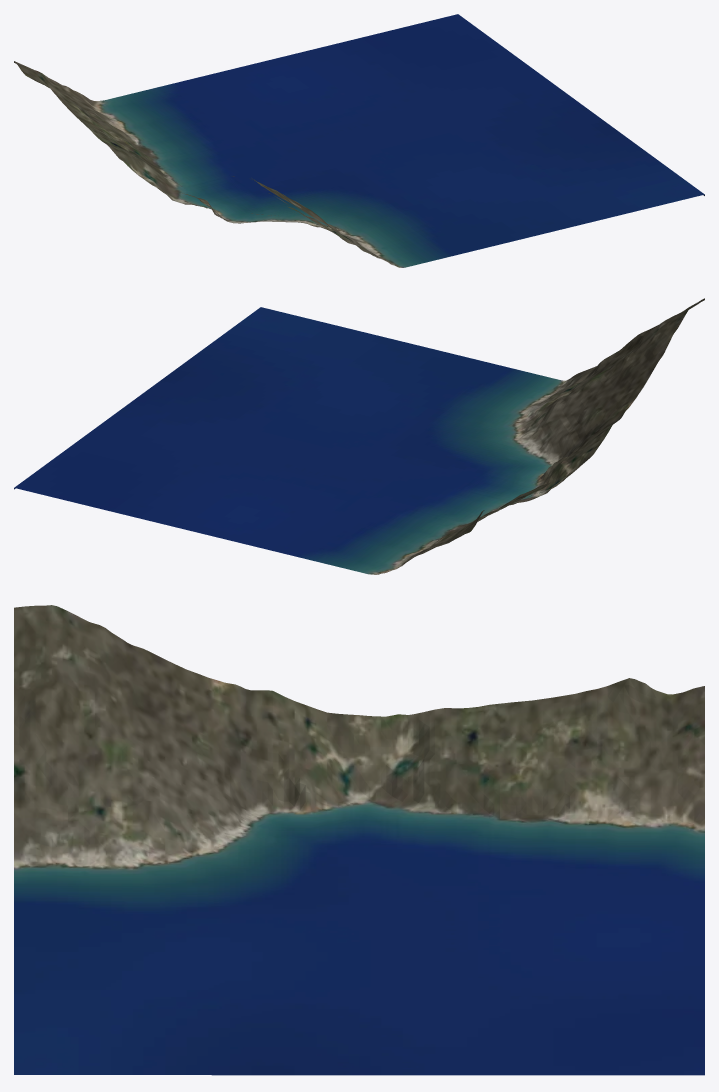
3 views of the same model, one above another, from view 1: azimuth 30°, elevation 25°; view 2: azimuth 150°, elevation 25°; view 3: azimuth 270°, elevation 25° (orthographic). The views are drawn at different scales.
Bounding box in the file's own units: 250 × 65.11 × 241.
Materials: 1 (1 with a texture image).
